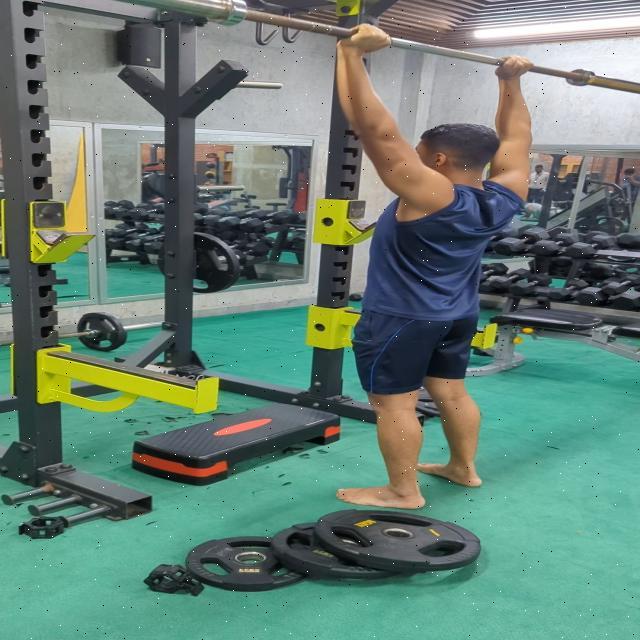Normal_OverheadPress: (290, 20, 540, 513)
